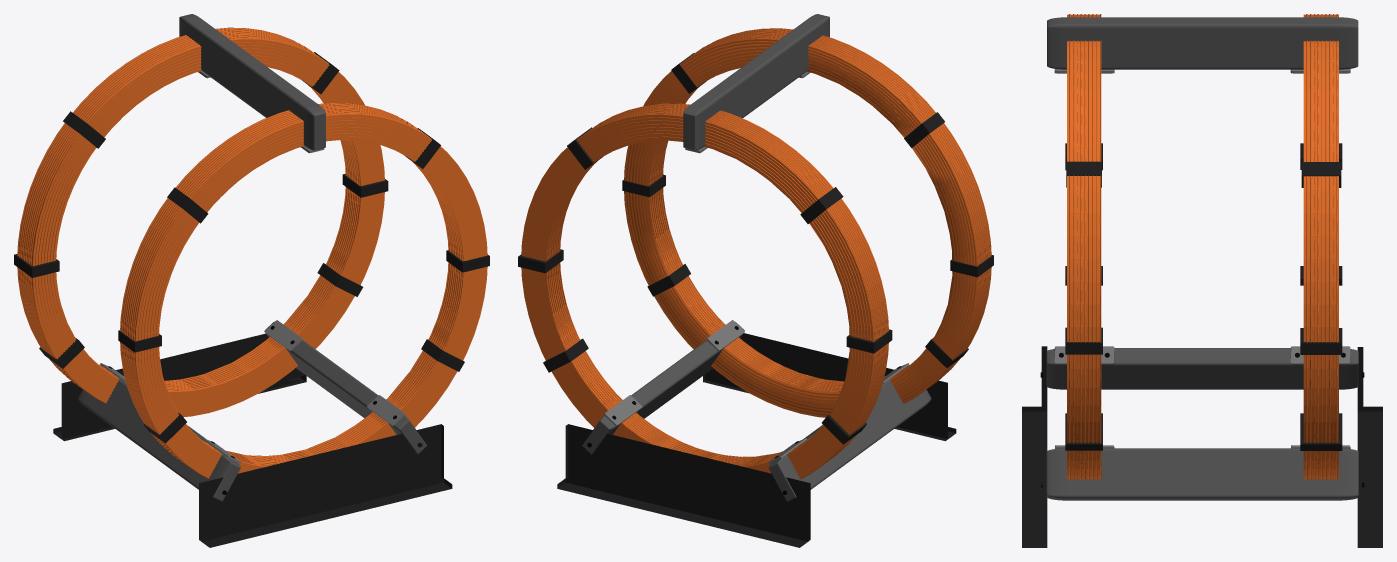
File: HelmholtzCoils.glb
The picture shows the model from 3 angles, left to right: view 1: azimuth 30°, elevation 25°; view 2: azimuth 150°, elevation 25°; view 3: azimuth 270°, elevation 25°; orthographic projection. The views are drawn at different scales.
Parts seen in each view (by area): view 1: rings; view 2: rings; view 3: rings.
Boxes of the visible parts, x1,y1,x2,y2 form: rings: (14,14,489,547); rings: (518,14,993,547); rings: (1022,14,1382,547).
Size of the model in its own units: 353 by 378 by 269.
